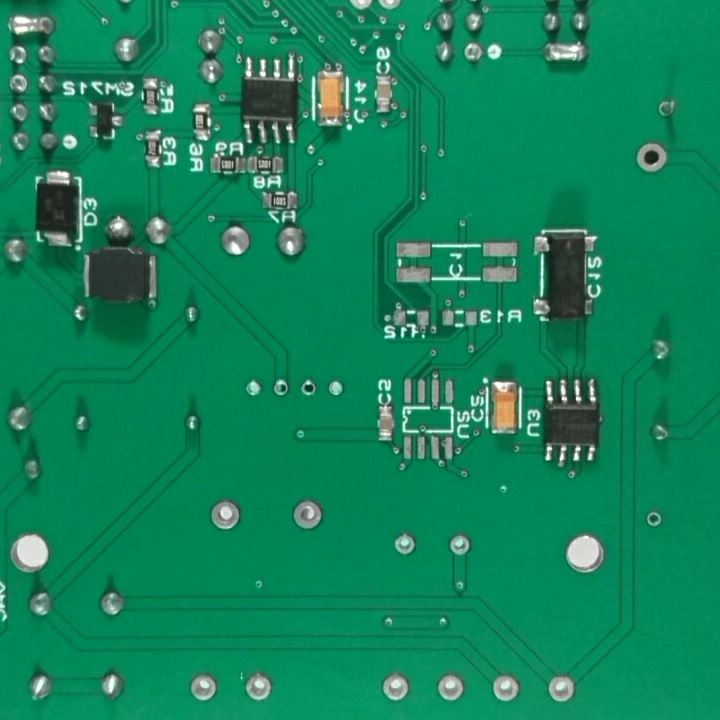F: (205, 495, 244, 535), (182, 669, 225, 704), (288, 496, 327, 533), (433, 669, 469, 706), (241, 669, 276, 706), (633, 138, 670, 173), (488, 671, 524, 703), (380, 672, 413, 705), (545, 674, 577, 706), (446, 531, 476, 561), (391, 529, 421, 557), (7, 72, 32, 98), (462, 42, 486, 67), (324, 380, 350, 402), (643, 507, 665, 531), (656, 96, 680, 118), (242, 377, 264, 398), (272, 378, 293, 399), (298, 380, 320, 400)
P: (4, 12, 57, 39), (541, 40, 593, 65)
